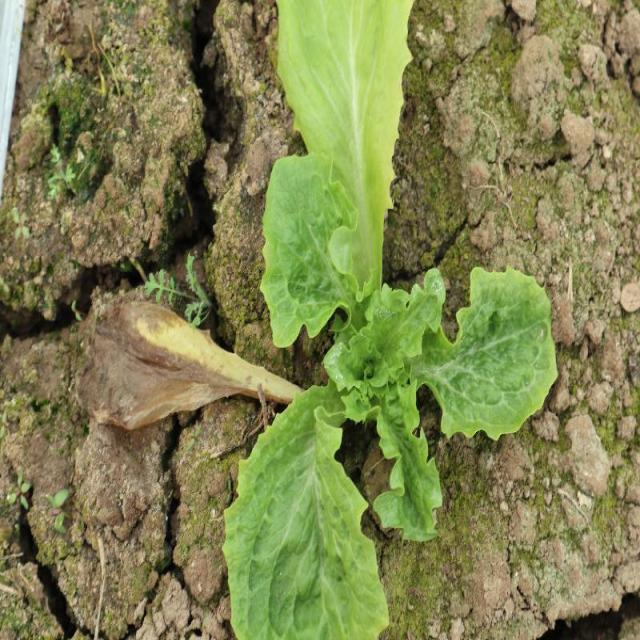crop: (221, 0, 560, 640)
